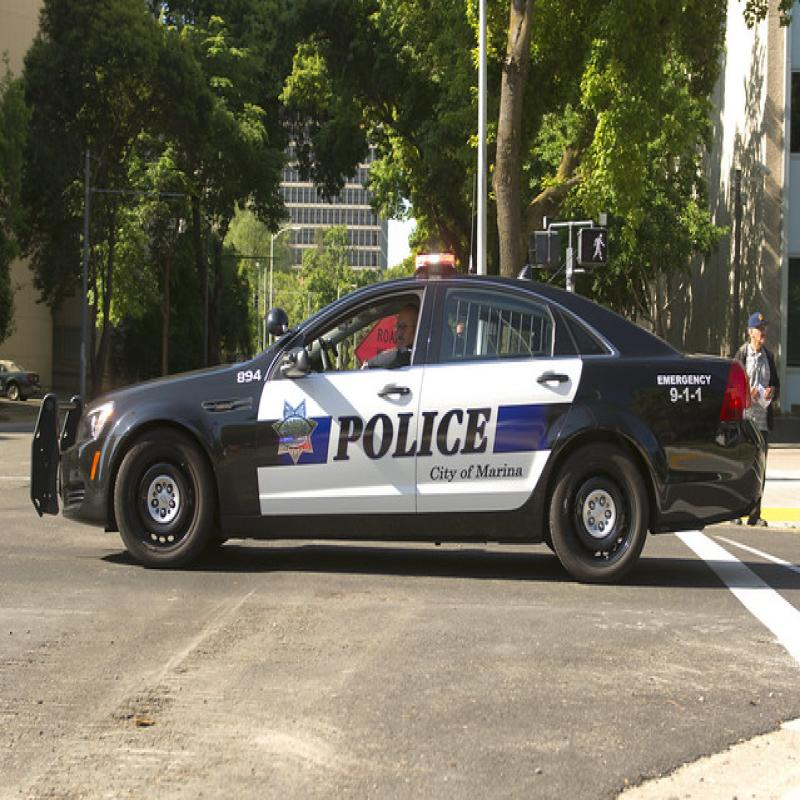AmbulanceSiren: (426, 246, 473, 284)
